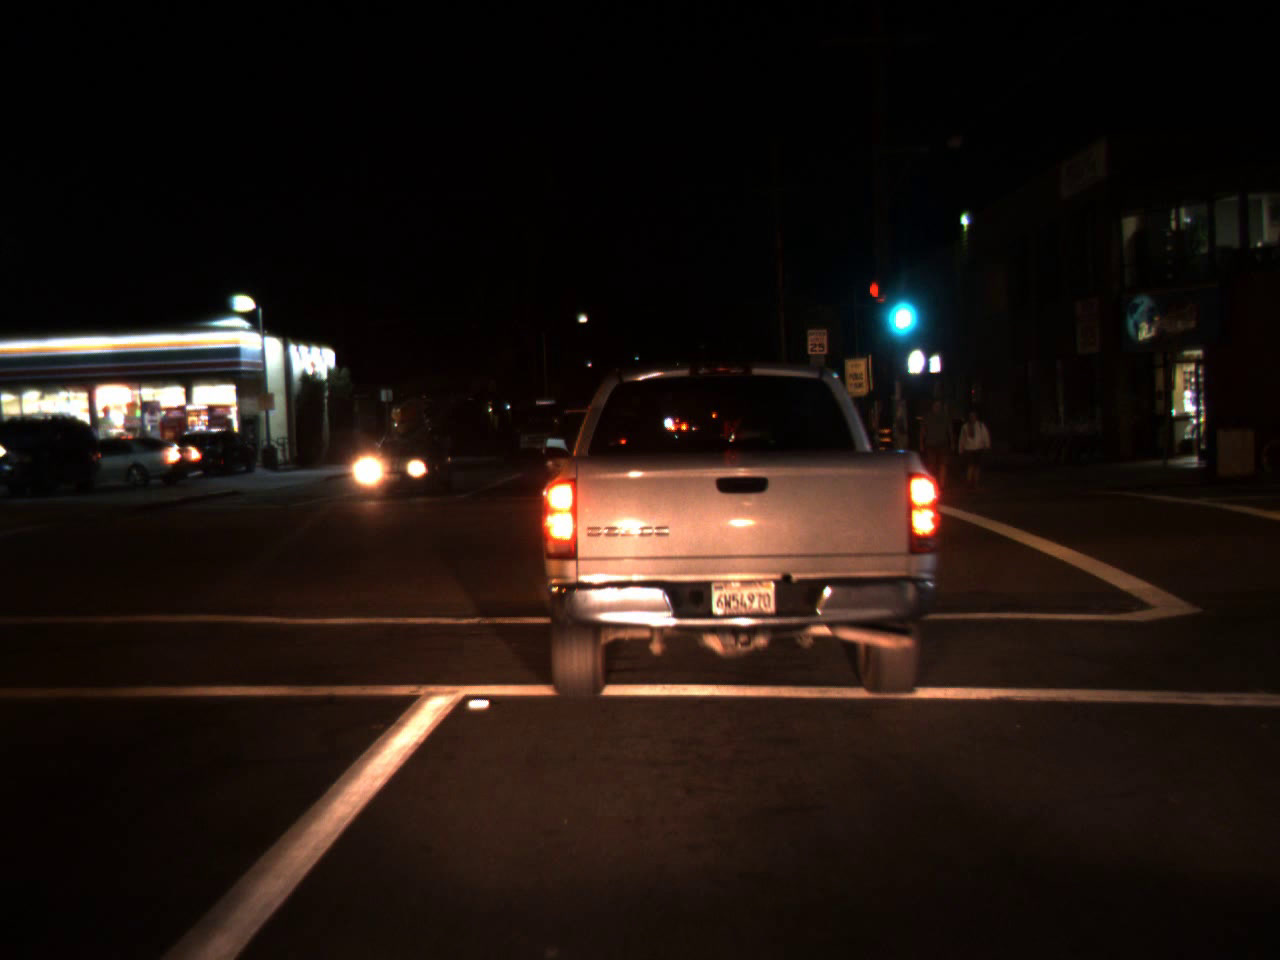go: (876, 265, 921, 343)
